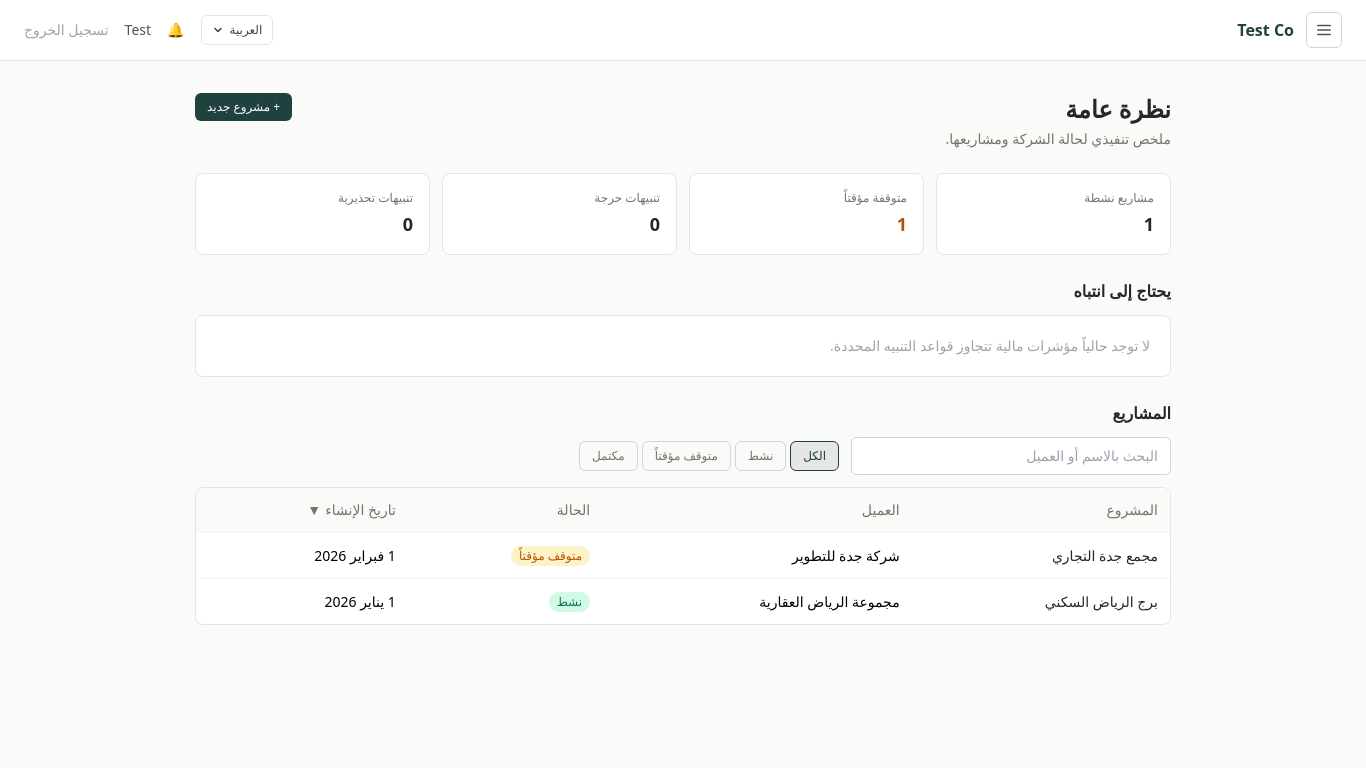
Scenario: <Dashboard/> — Executive Command Center (Phase F/F.1) › MIDAD Phase F.1: searching the project table filters by name/client, client-side, over already-loaded data only
expect the link "برج الرياض السكني" is shown: met, box 1045,592 -> 1158,610
expect the link "مجمع جدة التجاري" is shown: met, box 1052,546 -> 1158,564
Type "جدة" into the field with placeholder "البحث بالاسم أو العميل". click: point(1011, 456)
box: 851,437 -> 1171,475
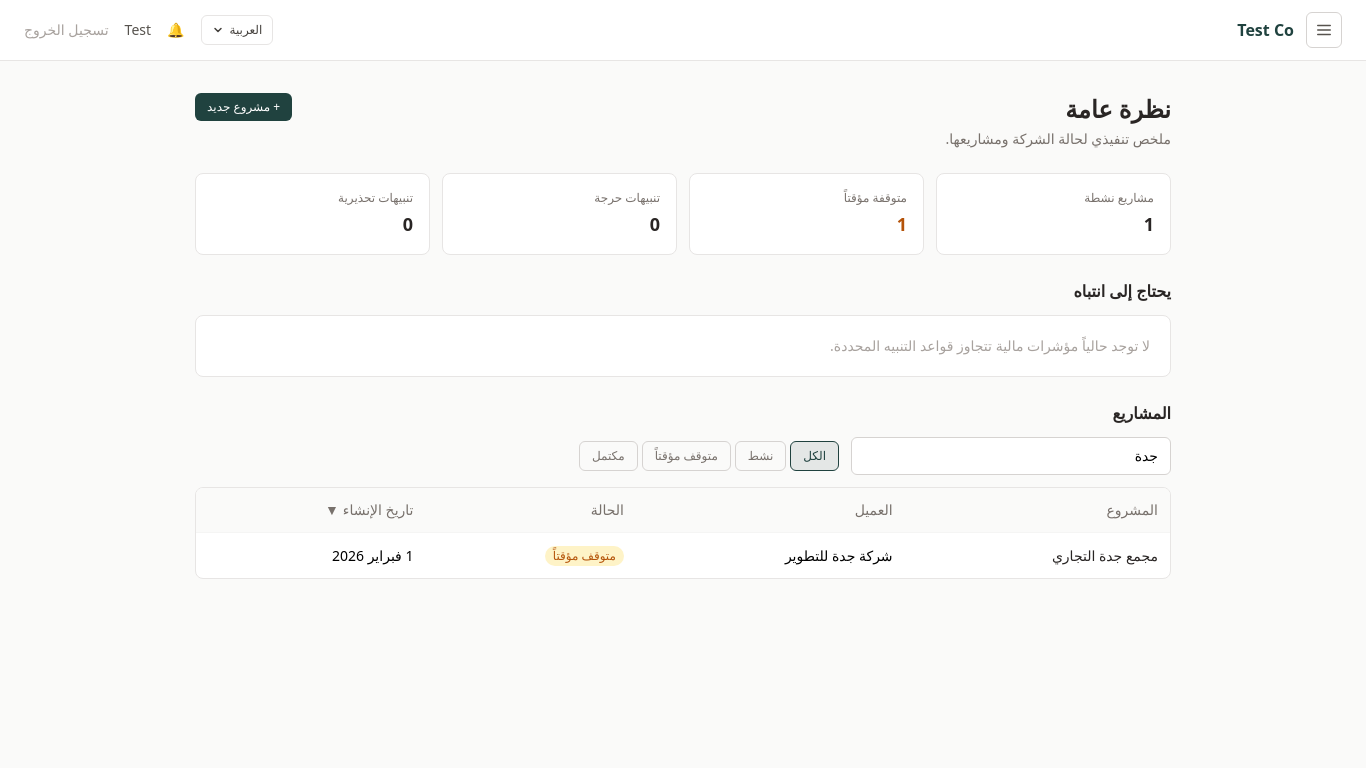
expect the link "مجمع جدة التجاري" is shown: met, box 1052,546 -> 1158,564
expect the link "برج الرياض السكني" is gone: met
